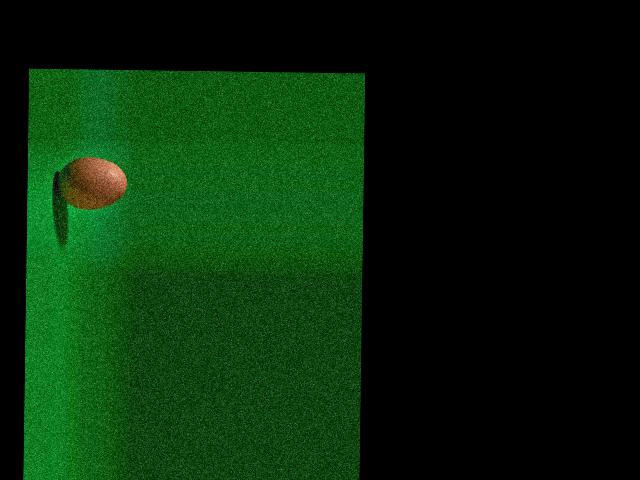egg: (56, 156, 126, 210)
